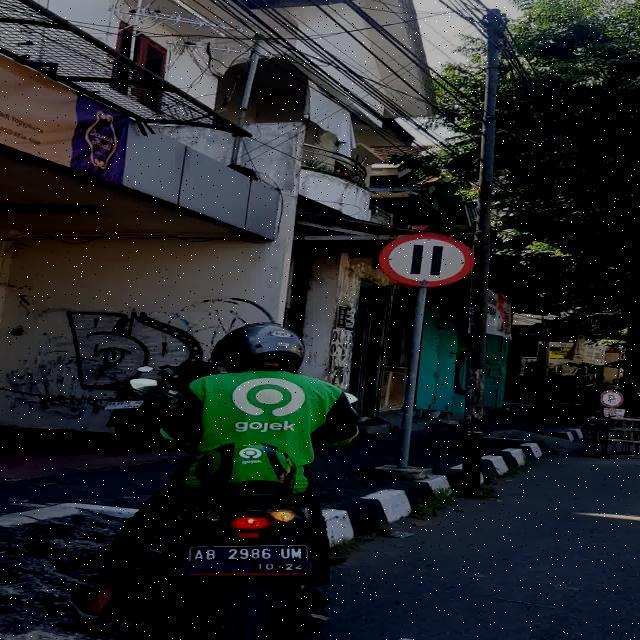Larangan Muatan - 10 ton: (378, 234, 474, 286)
